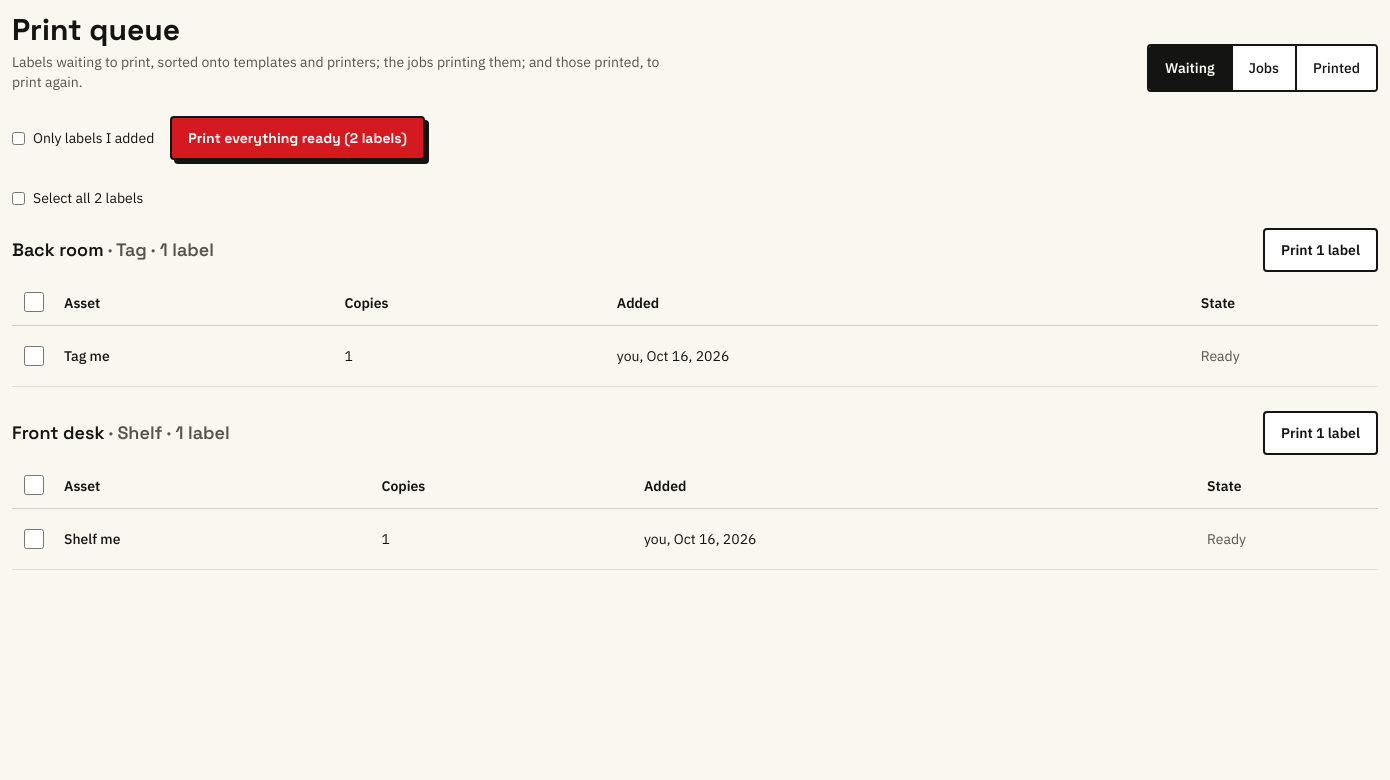
Test: SpoolPage › offers pools the selection suits, prints to them, and shows each printer’s part
Click the checkbox named "Select Shelf me" at (34, 538), box [24,528,44,548]
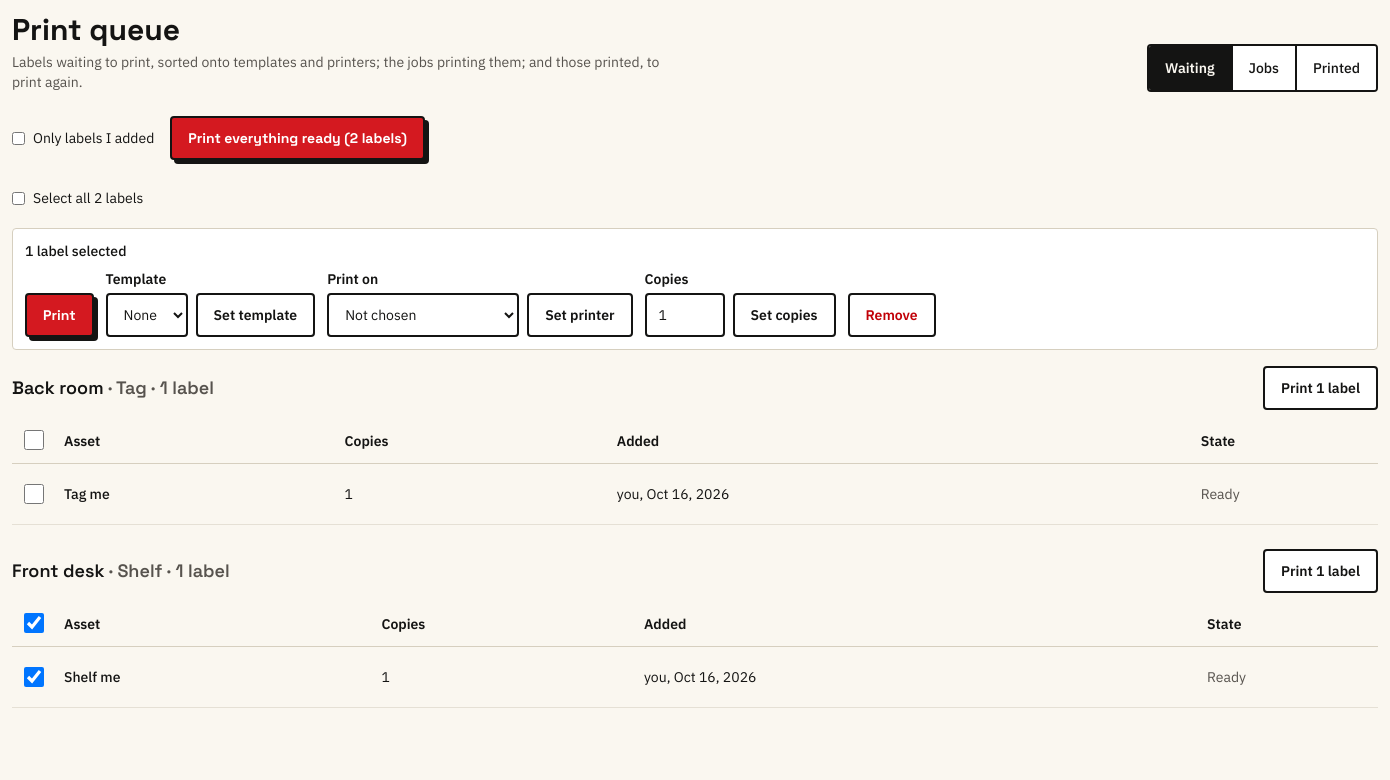
Click the checkbox named "Select Shelf me" at (34, 676), box [24,666,44,686]
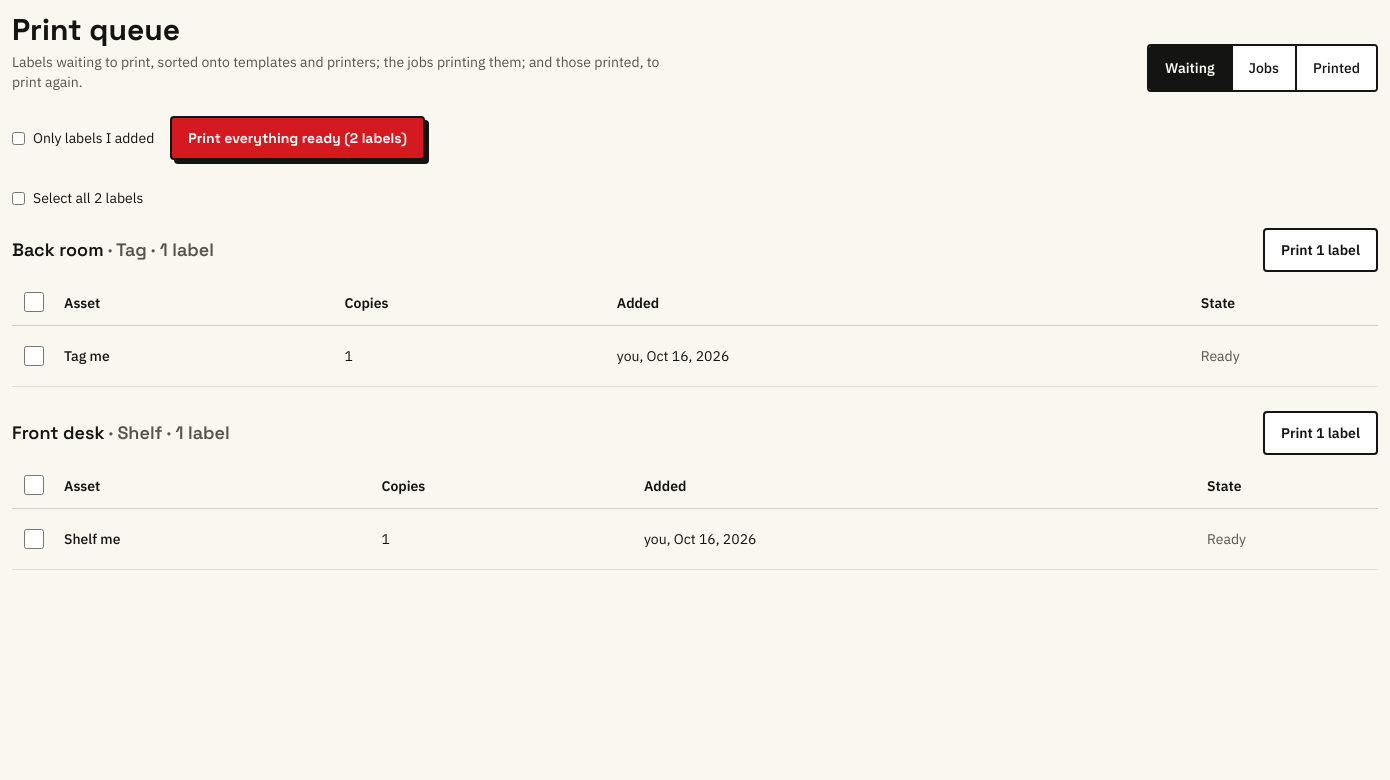
Click the checkbox named "Select Tag me" at (34, 356), box [24,346,44,366]
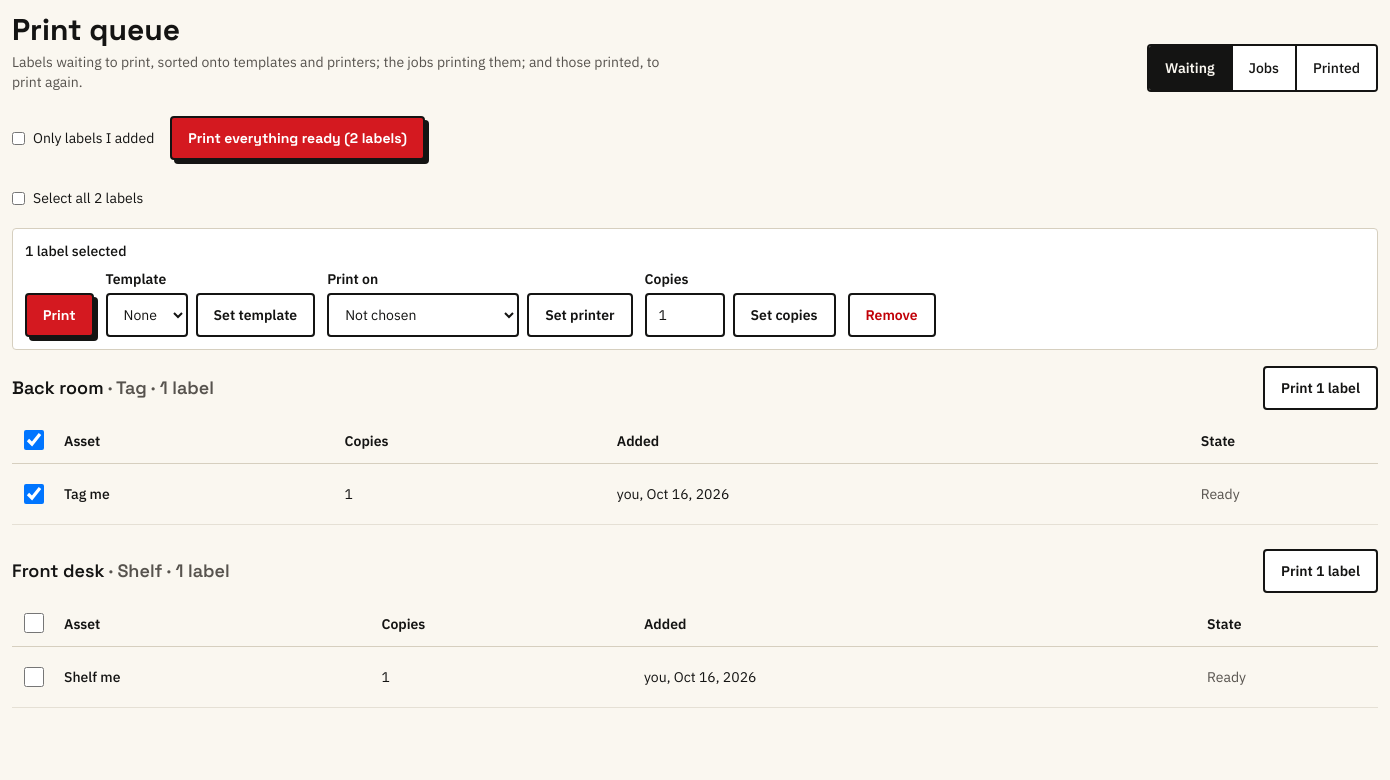
Select "Bench" in the dropdown labelled "Print on" at (423, 315), box [327,293,519,337]
Submit the form from the button "Set printer", box [527,293,633,337]
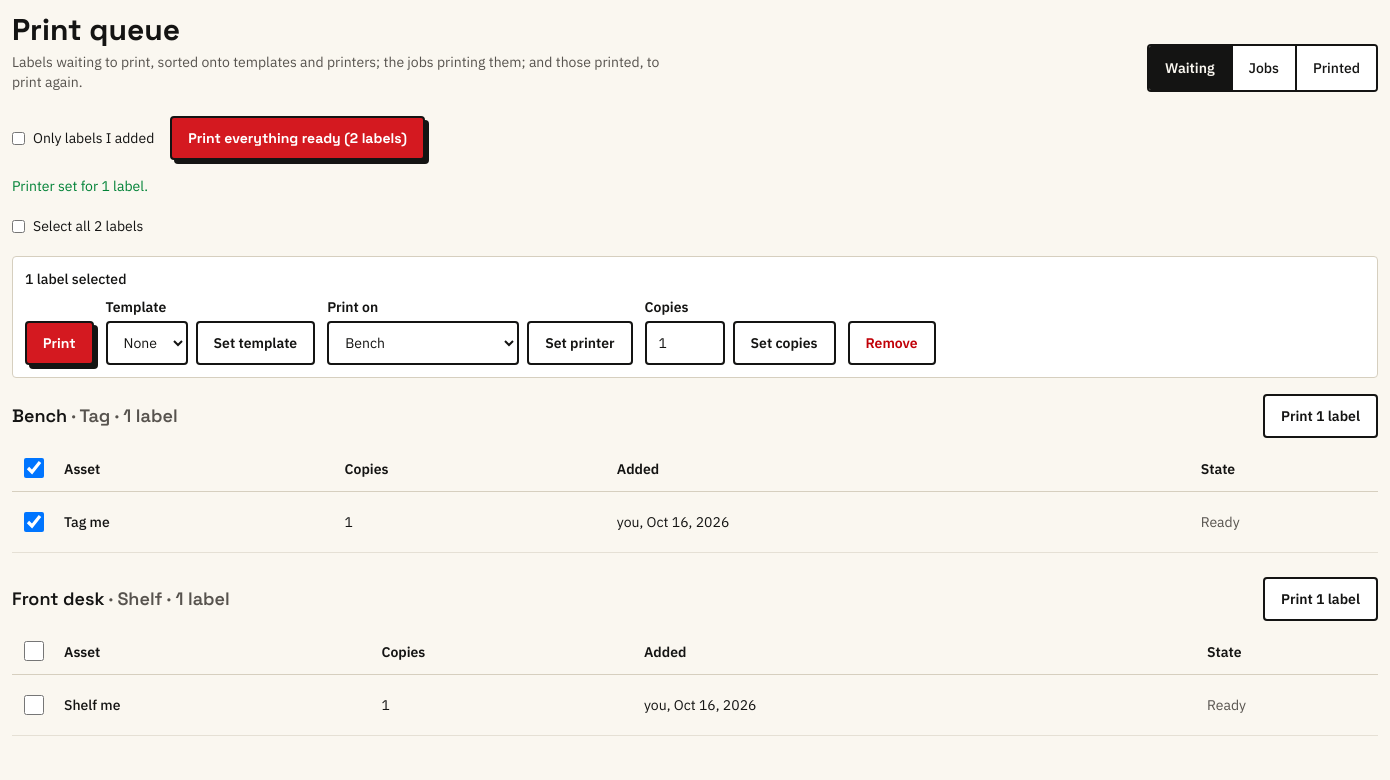
Click the button "Print 1 label" in the row of "· Tag · 1 label" at (1321, 416), box [1263,394,1378,438]
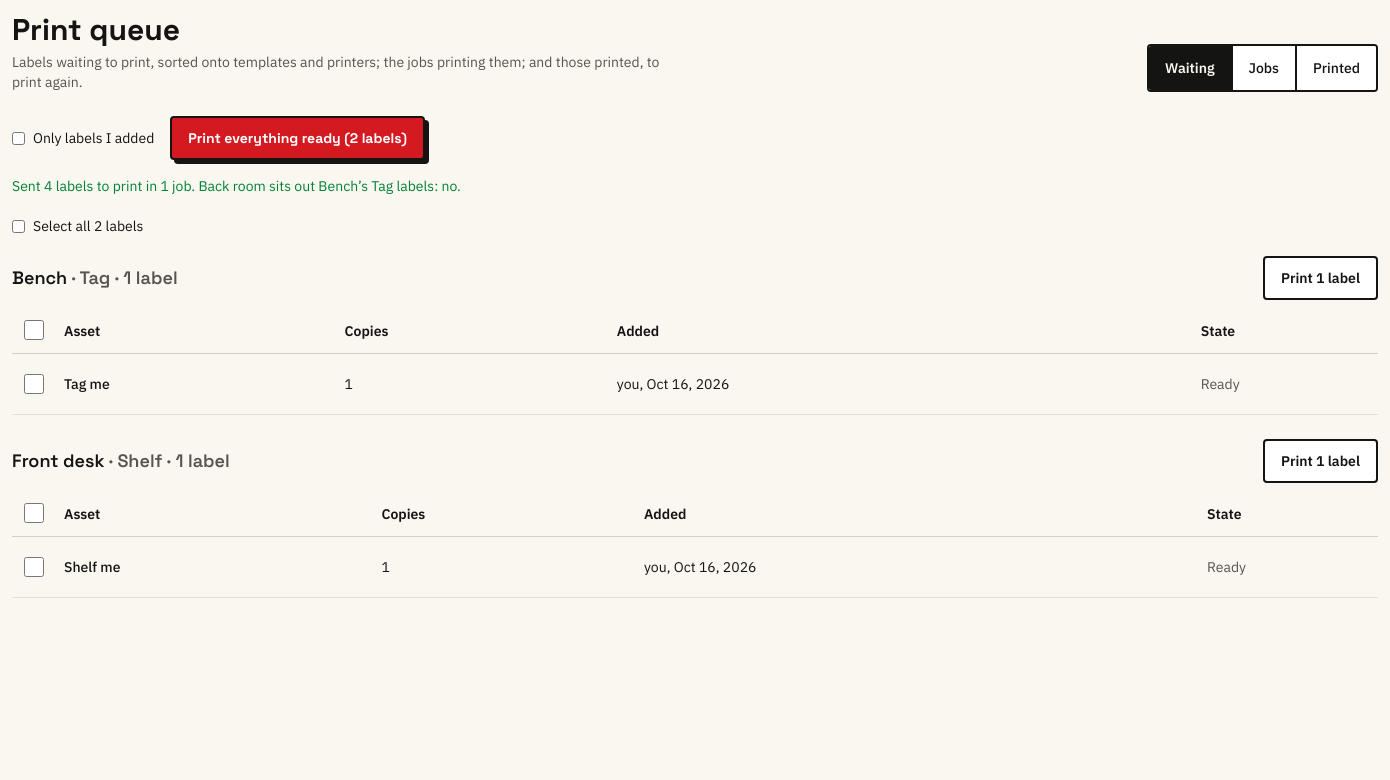
expect the text "Sent 4 labels to print in 1 job. Back room sits out Bench’s Tag labels: no." is shown: met, box [12,177,461,195]
Click the button "Jobs" at (1265, 68), box [1232,46,1297,90]
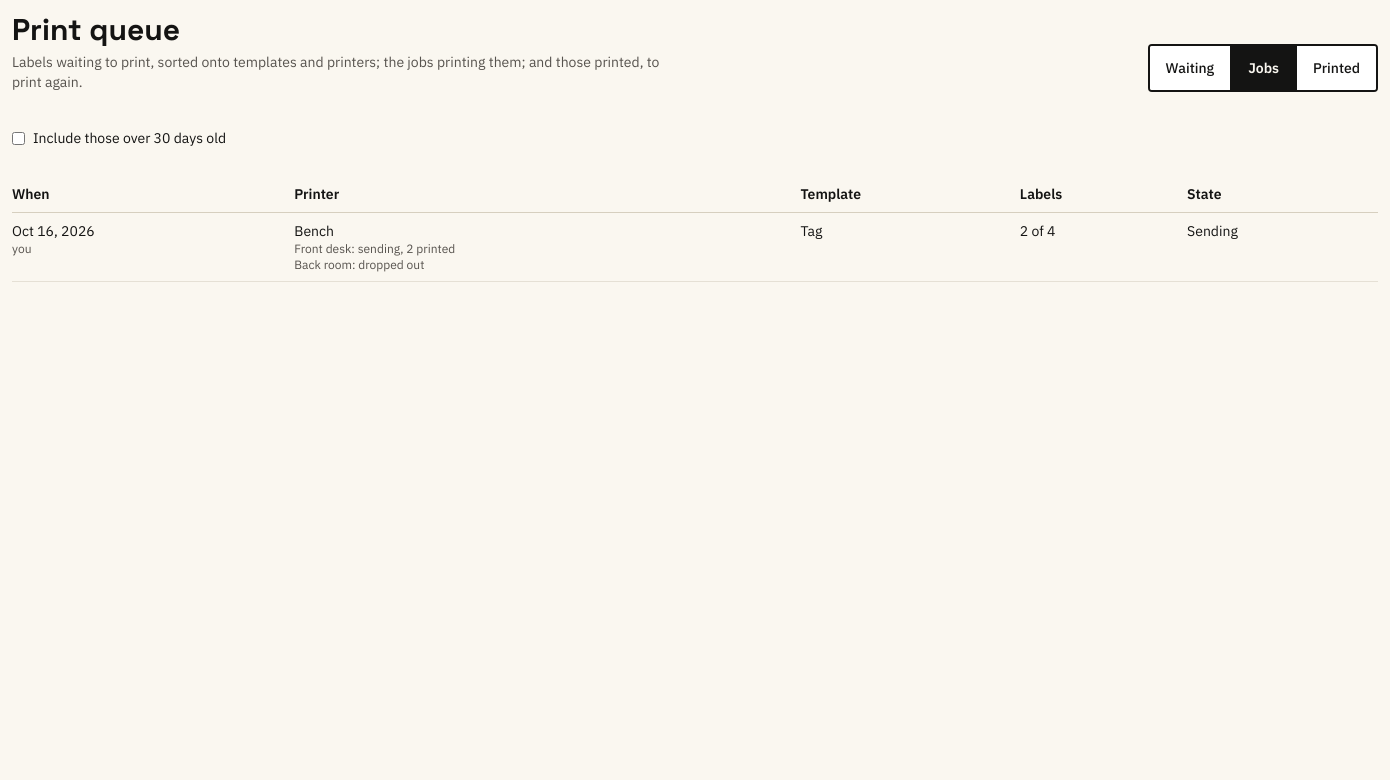
expect the list items read "Front desk: sending, 2 printed", "Back room: dropped out", in this order: met, box [294,241,455,256]; [294,257,424,272]
